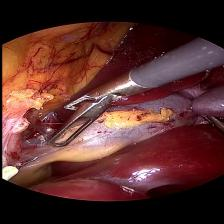Grasper: (39, 70, 153, 154)
Hook: (1, 154, 43, 184)
